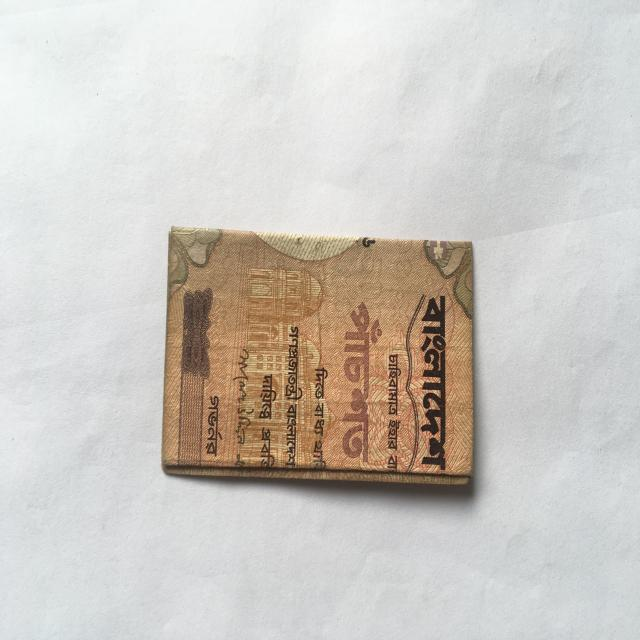Taka: (159, 219, 481, 491)
